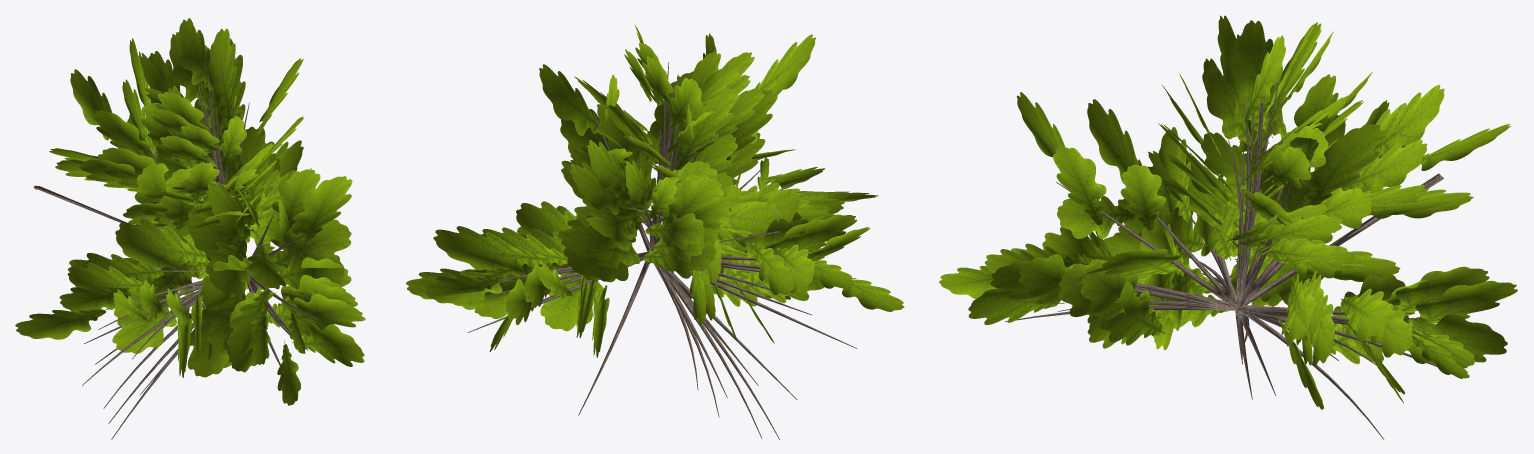
Rendered from bosje2.fbx.
3 renders of one model, left to right at view 1: azimuth 30°, elevation 25°; view 2: azimuth 150°, elevation 25°; view 3: azimuth 270°, elevation 25°, orthographic. The views are drawn at different scales.
Visible parts, largest first — view 1: Tree_1, Tree_0; view 2: Tree_1, Tree_0; view 3: Tree_1, Tree_0.
Part boxes in pixels (<box>): Tree_1: <box>15,18,365,405</box>; Tree_0: <box>33,74,316,439</box>; Tree_1: <box>406,24,904,357</box>; Tree_0: <box>467,62,856,439</box>; Tree_1: <box>939,15,1517,409</box>; Tree_0: <box>1005,63,1465,439</box>.
Size of the model in its own units: 346 by 327 by 397.
2 materials, 2 textured.
